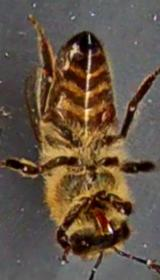varroa_mite: (90, 100, 123, 129)
